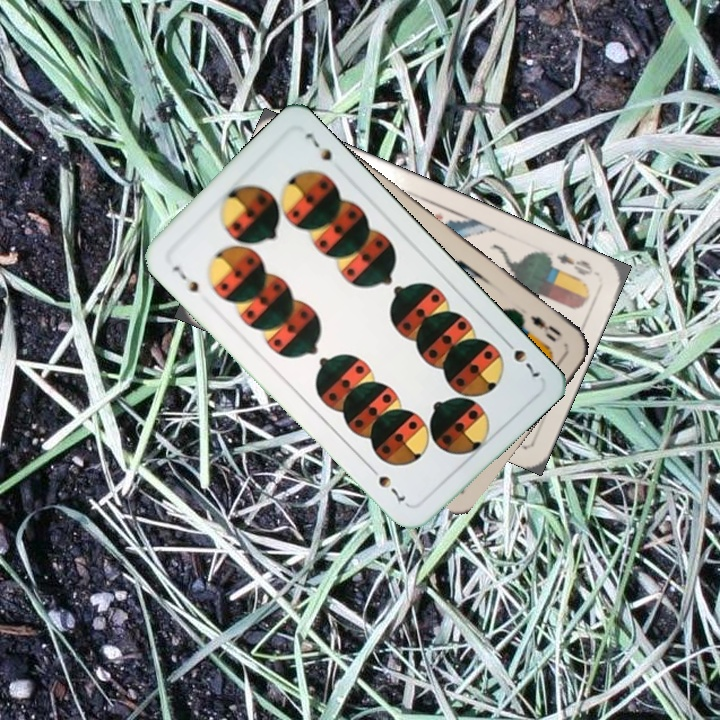EO: (526, 311, 566, 345), (551, 250, 596, 279)
S7: (499, 334, 543, 380), (168, 261, 202, 295)
